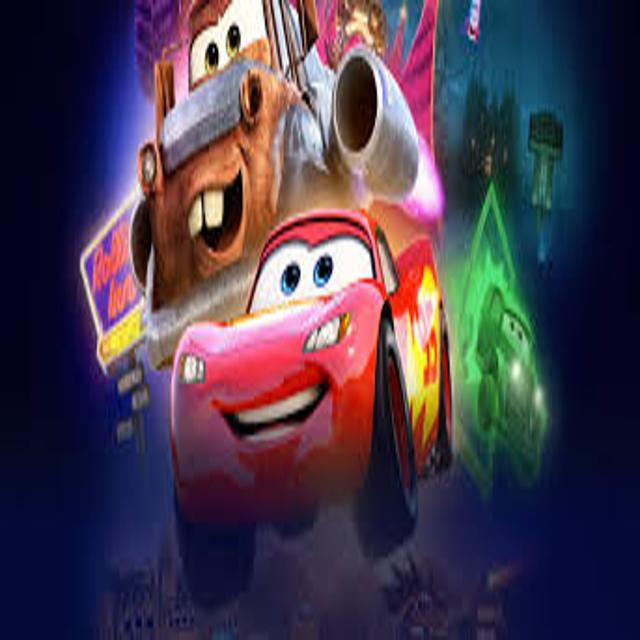car: (170, 210, 452, 600)
